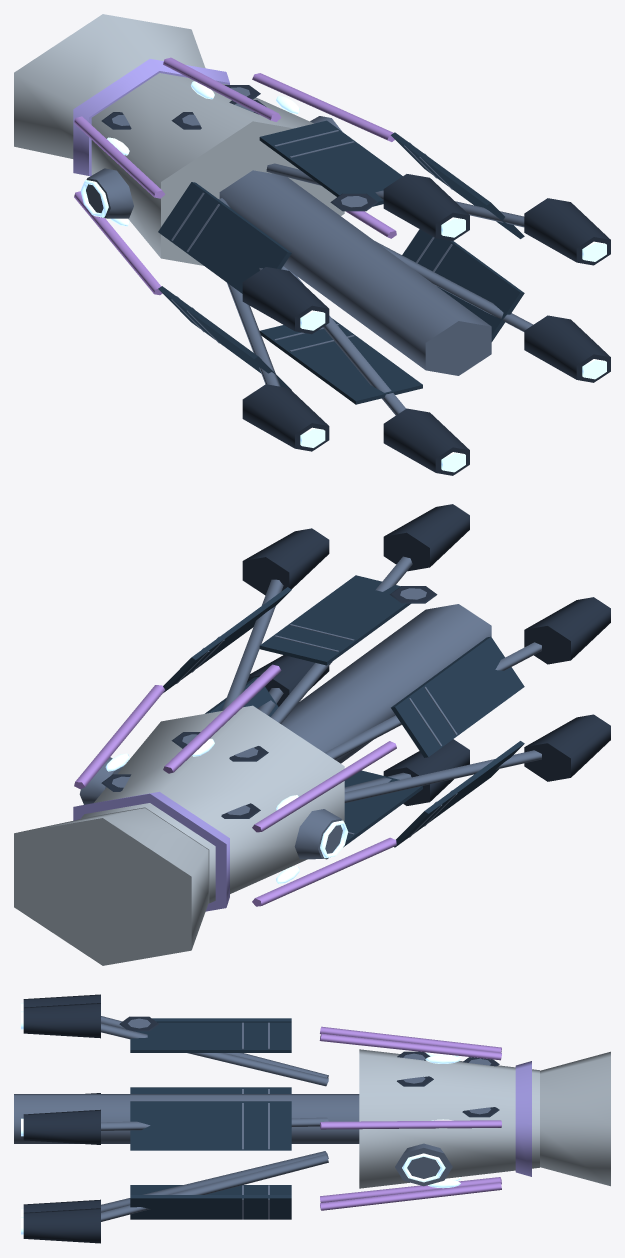
The model's file is cryogenic_hydrocarbon--warp_scout--lod1.glb.
The picture shows the model from 3 angles, top to bottom: view 1: azimuth 30°, elevation 25°; view 2: azimuth 150°, elevation 25°; view 3: azimuth 270°, elevation 25°; orthographic projection. The views are drawn at different scales.
Visible parts, largest first — view 1: thermal_isolation_spine_1, cold_habitat_lantern_2, forward_ice_cap_3, heat_rejection_fin_49, heat_rejection_fin_9, heat_rejection_fin_33, heat_rejection_fin_25, isolated_hot_drive_39, isolated_hot_drive_47, isolated_hot_drive_15, isolated_hot_drive_23, isolated_hot_drive_7 (+13 smaller); view 2: forward_ice_cap_3, cold_habitat_lantern_2, thermal_isolation_spine_1, heat_rejection_fin_49, heat_rejection_fin_9, isolated_hot_drive_47, isolated_hot_drive_7, isolated_hot_drive_39, isolated_hot_drive_15, radial_observation_band_4, heat_rejection_fin_33, isolated_hot_drive_31 (+13 smaller); view 3: cold_habitat_lantern_2, forward_ice_cap_3, heat_rejection_fin_17, thermal_isolation_spine_1, heat_rejection_fin_9, heat_rejection_fin_25, isolated_hot_drive_23, isolated_hot_drive_15, isolated_hot_drive_7, radial_observation_band_4, thermal_drive_boom_22, thermal_drive_boom_6 (+15 smaller).
Boxes of the visible parts, bbox=[...] form: thermal_isolation_spine_1: bbox=[219, 170, 491, 375]; cold_habitat_lantern_2: bbox=[91, 73, 344, 265]; forward_ice_cap_3: bbox=[14, 14, 205, 158]; heat_rejection_fin_49: bbox=[158, 182, 291, 293]; heat_rejection_fin_9: bbox=[259, 120, 402, 206]; heat_rejection_fin_33: bbox=[259, 318, 422, 404]; heat_rejection_fin_25: bbox=[402, 229, 524, 341]; isolated_hot_drive_39: bbox=[242, 384, 329, 451]; isolated_hot_drive_47: bbox=[242, 267, 329, 334]; isolated_hot_drive_15: bbox=[524, 198, 610, 265]; isolated_hot_drive_23: bbox=[524, 315, 610, 382]; isolated_hot_drive_7: bbox=[383, 174, 469, 241]; forward_ice_cap_3: bbox=[14, 808, 208, 965]; cold_habitat_lantern_2: bbox=[81, 705, 344, 903]; thermal_isolation_spine_1: bbox=[281, 604, 491, 763]; heat_rejection_fin_49: bbox=[391, 636, 524, 757]; heat_rejection_fin_9: bbox=[259, 575, 410, 665]; isolated_hot_drive_47: bbox=[524, 597, 610, 664]; isolated_hot_drive_7: bbox=[383, 504, 469, 571]; isolated_hot_drive_39: bbox=[524, 714, 610, 781]; isolated_hot_drive_15: bbox=[242, 528, 329, 595]; radial_observation_band_4: bbox=[73, 791, 229, 911]; heat_rejection_fin_33: bbox=[324, 770, 422, 859]; isolated_hot_drive_31: bbox=[383, 739, 469, 805]; cold_habitat_lantern_2: bbox=[359, 1049, 539, 1188]; forward_ice_cap_3: bbox=[540, 1051, 610, 1186]; heat_rejection_fin_17: bbox=[130, 1101, 291, 1150]; thermal_isolation_spine_1: bbox=[14, 1094, 359, 1143]; heat_rejection_fin_9: bbox=[130, 1022, 291, 1052]; heat_rejection_fin_25: bbox=[130, 1195, 291, 1219]; isolated_hot_drive_23: bbox=[23, 1208, 100, 1243]; isolated_hot_drive_15: bbox=[23, 1109, 100, 1144]; isolated_hot_drive_7: bbox=[23, 1003, 100, 1038]; radial_observation_band_4: bbox=[515, 1061, 531, 1176]; thermal_drive_boom_22: bbox=[101, 1154, 328, 1221]; thermal_drive_boom_6: bbox=[101, 1023, 328, 1086].
Size of the model in its own units: 98 by 78 by 184.
